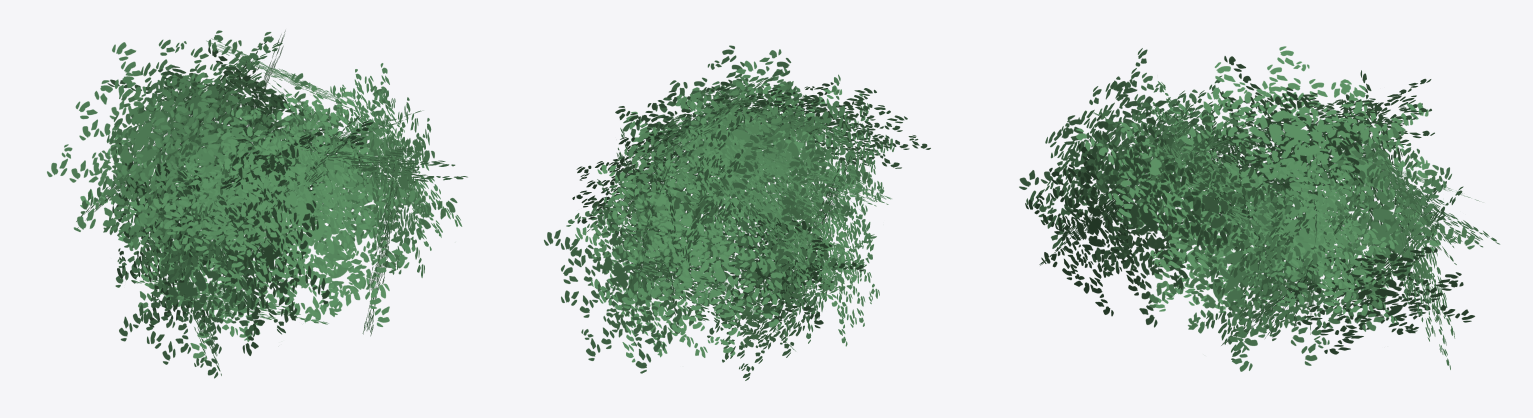
File: bush01.glb
The picture shows the model from 3 angles, left to right: view 1: azimuth 30°, elevation 25°; view 2: azimuth 150°, elevation 25°; view 3: azimuth 270°, elevation 25°; orthographic projection. The views are drawn at different scales.
Visible parts, largest first — view 1: Bush01; view 2: Bush01; view 3: Bush01.
Part boxes in pixels (bbox=[...]): Bush01: bbox=[47, 30, 467, 378]; Bush01: bbox=[544, 45, 930, 380]; Bush01: bbox=[1019, 46, 1499, 371].
Bounding box in the file's own units: 2.46 × 2.42 × 2.99.
Materials: 1 (1 with a texture image).
